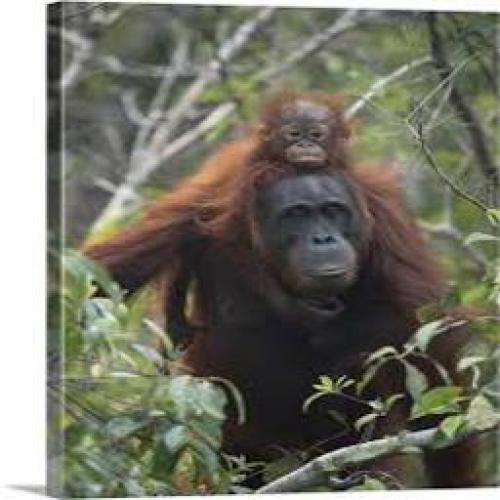orangutan-endangered: (82, 162, 474, 474), (255, 88, 349, 196)
